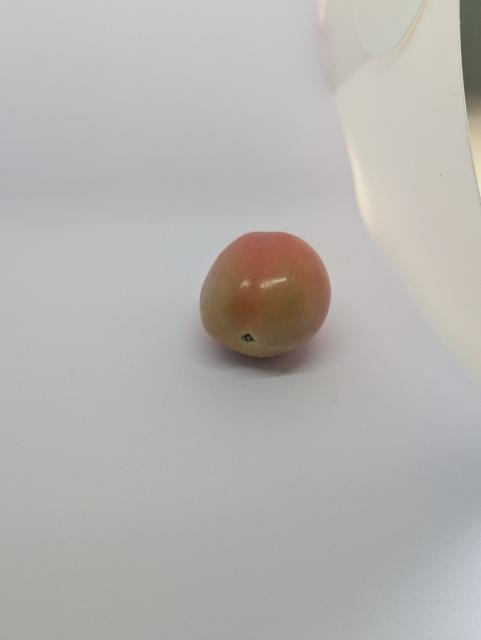turning: (193, 224, 342, 373)
